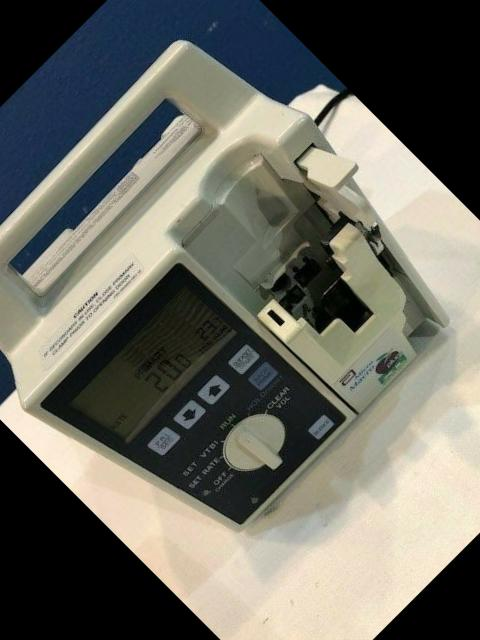plumxl1: (6, 91, 454, 511)
